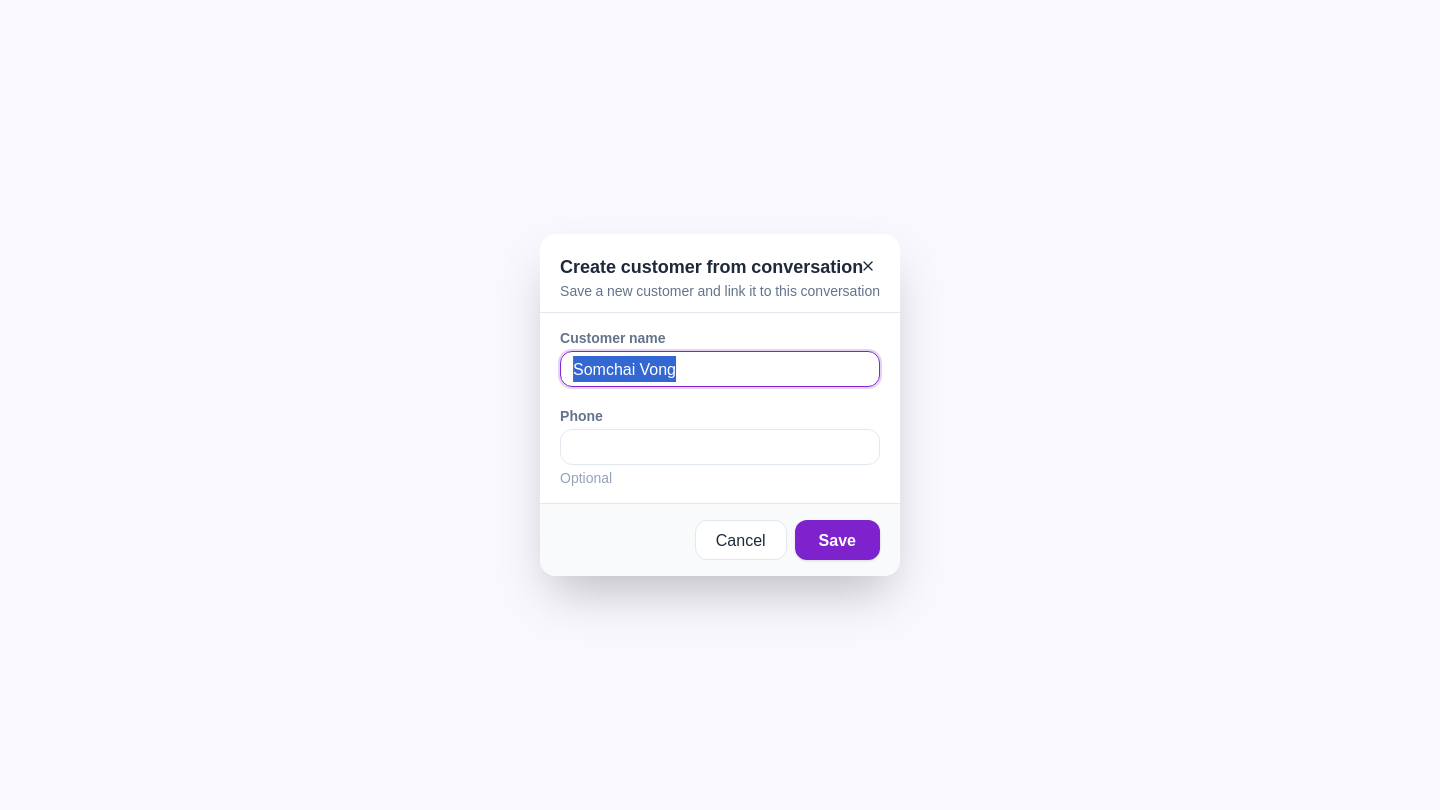
Test: CreateCustomerDialog › ເບີຊ້ຳ (409 DUPLICATE_VALUE): ສະແດງ error ໃນ dialog ແລະ ບໍ່ປິດ
Type "020999999" into the field labelled "Phone".
click(720, 447); type("020999999")  # box top-left (560, 429), bottom-right (880, 465)
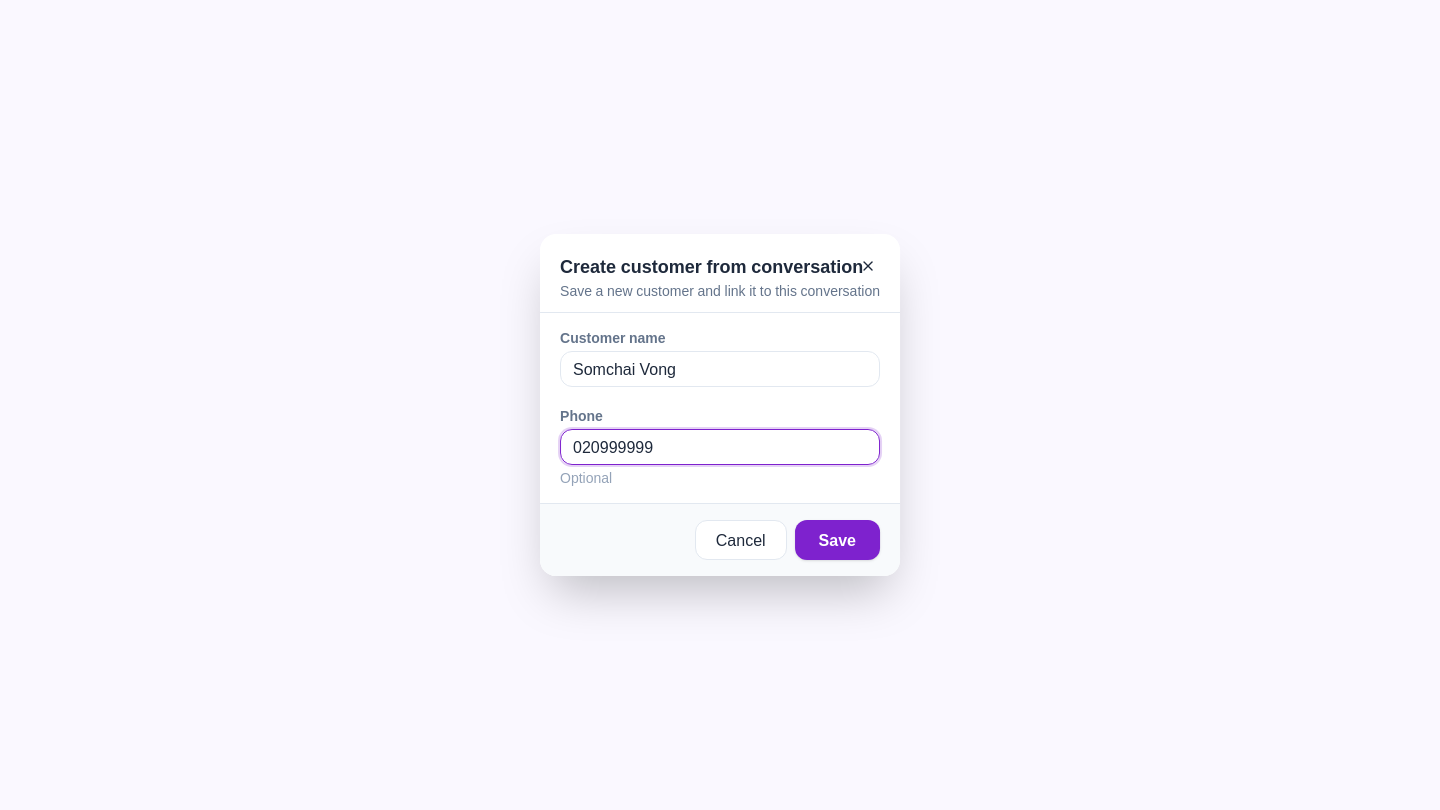
Click the button "Save".
click(837, 540)  # box top-left (795, 520), bottom-right (880, 560)
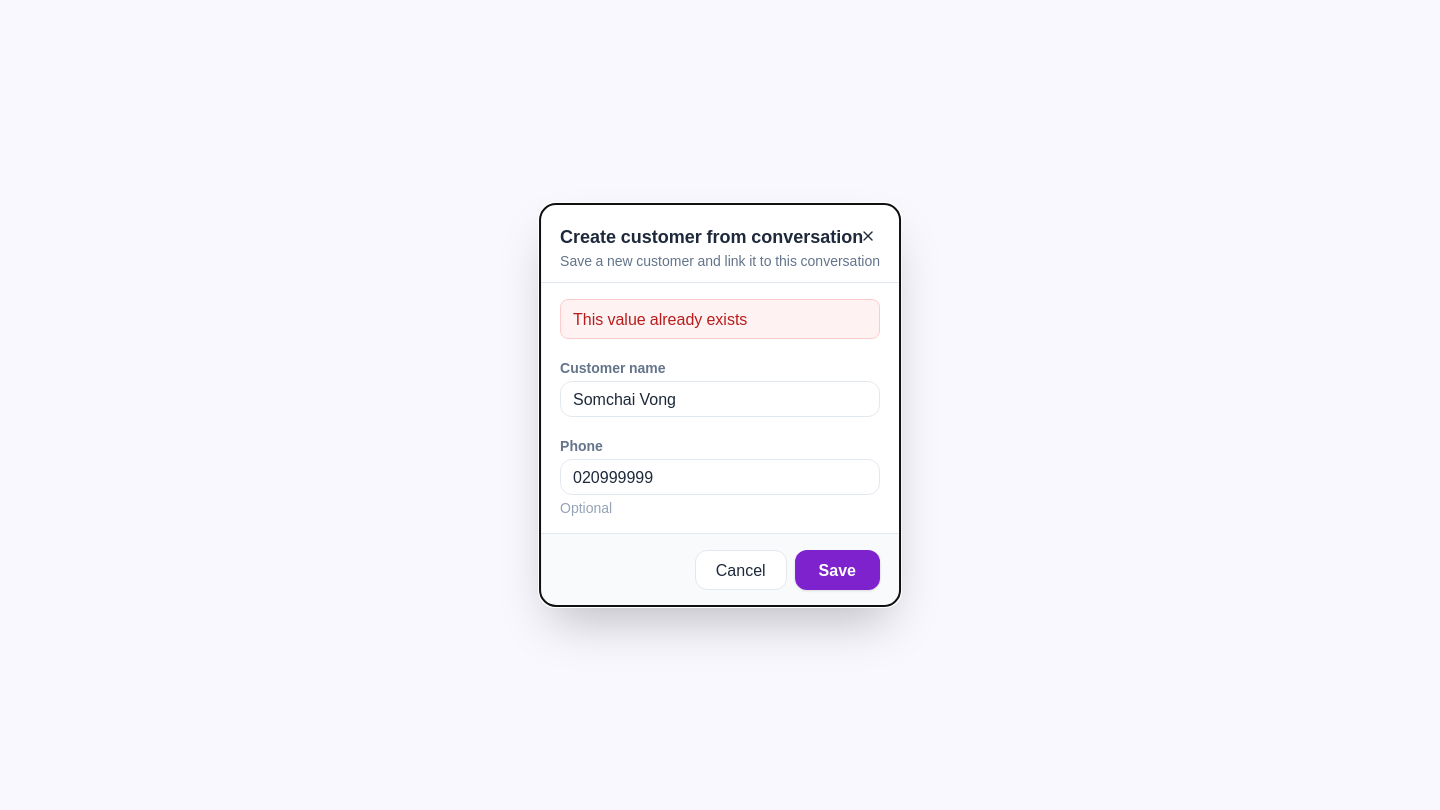
Now the message reads "This value already exists", box top-left (573, 306), bottom-right (747, 332)
